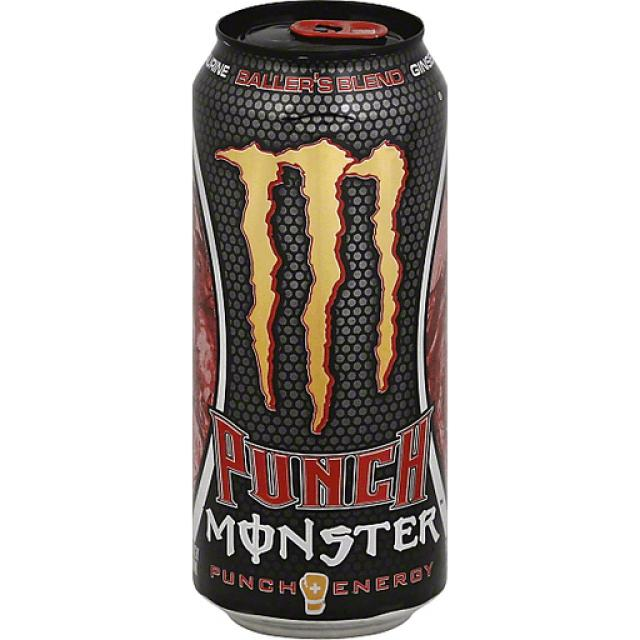Cans: (187, 0, 454, 640)
